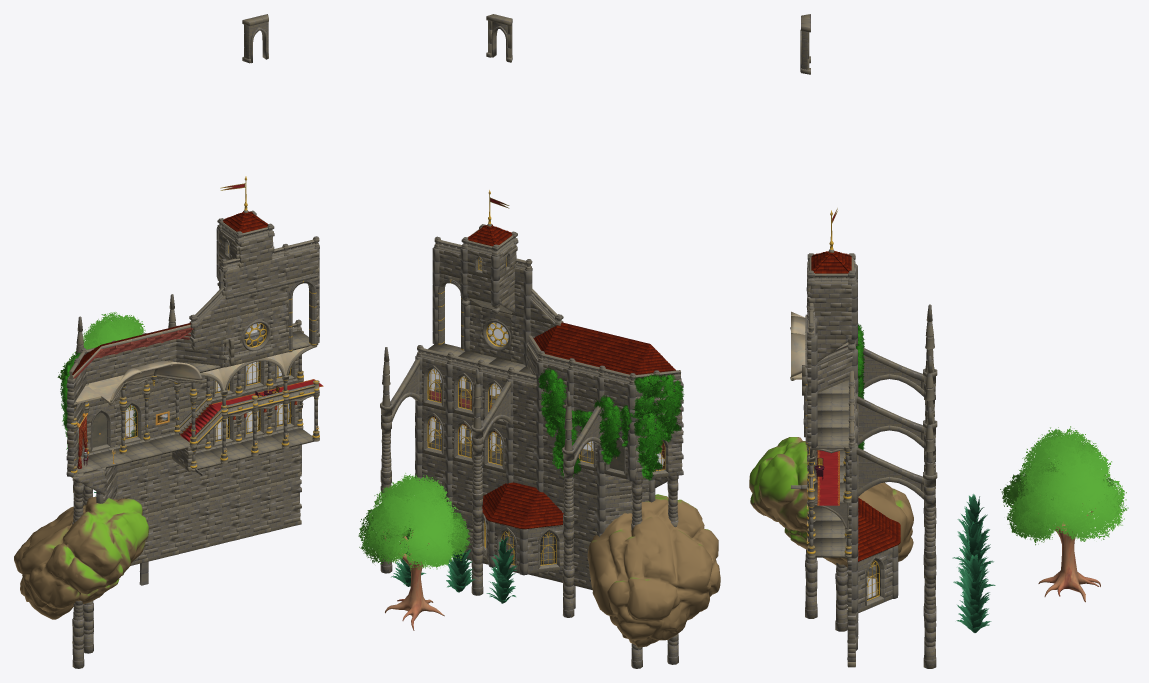
File: cell_x-3_z0_render.gltf
3 views of the same model, side by side, from view 1: azimuth 30°, elevation 25°; view 2: azimuth 150°, elevation 25°; view 3: azimuth 270°, elevation 25° (orthographic). The views are drawn at different scales.
Visible parts, largest first — view 1: SM_ENV_cliff_castle_01_LOD0.015, SM_MOD_wall_big_castle_LOD0.076, SM_ENV_tree_castle_01_LOD0.050, SM_MOD_wall_big_castle_LOD0.027, SM_MOD_wall_big_castle_LOD0.193, SM_MOD_wall_big_castle_LOD0.212, SM_MOD_wall_big_castle_LOD0.043, SM_MOD_wall_big_castle_LOD0.055, SM_MOD_wall_big_castle_LOD0.331, SM_MOD_wall_big_castle_LOD0.145, SM_MOD_wall_big_window_round_castle_LOD0.002, SM_MOD_wall_big_niche_castle_LOD0.003 (+37 smaller); view 2: SM_ENV_cliff_castle_01_LOD0.015, SM_ENV_tree_castle_01_LOD0.050, SM_MOD_deco_flying_buttress_castle_LOD0.024, SM_MOD_deco_flying_buttress_castle_LOD0.004, SM_MOD_deco_flying_buttress_castle_LOD0.008, SM_MOD_wall_big_diagonal_window_castle_LOD0.013, SM_MOD_wall_big_window_round_castle_LOD0.002, SM_ENV_bush_castle_08_LOD0.048, SM_ENV_bush_castle_08_LOD0.076, SM_MOD_wall_big_diagonal_window_castle_LOD0.009, SM_ENV_bush_castle_08_LOD0.046, SM_ENV_bush_castle_08_LOD0.019 (+40 smaller); view 3: SM_ENV_tree_castle_01_LOD0.050, SM_ENV_cliff_castle_01_LOD0.015, SM_MOD_deco_flying_buttress_castle_LOD0.024, SM_MOD_deco_flying_buttress_castle_LOD0.004, SM_MOD_deco_flying_buttress_castle_LOD0.008, SM_MOD_wall_big_diagonal_window_castle_LOD0.016, SM_ENV_tree_castle_02_LOD0.018, SM_MOD_deco_flying_buttress_ext_castle_LOD0.052, SM_MOD_wall_small_castle_LOD0.018, SM_MOD_wall_small_castle_LOD0.268, SM_ENV_tree_castle_02_LOD0.026, SM_MOD_wall_small_diagonal_castle_LOD0.032 (+13 smaller).
Boxes of the visible parts, x1,y1,x2,y2 form: SM_ENV_cliff_castle_01_LOD0.015: (14,496,148,619); SM_MOD_wall_big_castle_LOD0.076: (266,476,301,531); SM_ENV_tree_castle_01_LOD0.050: (57,312,145,437); SM_MOD_wall_big_castle_LOD0.027: (236,484,271,538); SM_MOD_wall_big_castle_LOD0.193: (174,499,209,553); SM_MOD_wall_big_castle_LOD0.212: (222,263,258,318); SM_MOD_wall_big_castle_LOD0.043: (205,491,240,546); SM_MOD_wall_big_castle_LOD0.055: (144,459,179,513); SM_MOD_wall_big_castle_LOD0.331: (144,506,179,561); SM_MOD_wall_big_castle_LOD0.145: (253,256,288,311); SM_MOD_wall_big_window_round_castle_LOD0.002: (238,308,273,363); SM_MOD_wall_big_niche_castle_LOD0.003: (87,401,118,453); SM_ENV_cliff_castle_01_LOD0.015: (587,494,720,647); SM_ENV_tree_castle_01_LOD0.050: (358,473,471,630); SM_MOD_deco_flying_buttress_castle_LOD0.024: (380,347,420,478); SM_MOD_deco_flying_buttress_castle_LOD0.004: (471,369,511,500); SM_MOD_deco_flying_buttress_castle_LOD0.008: (562,391,602,522); SM_MOD_wall_big_diagonal_window_castle_LOD0.013: (527,525,563,573); SM_MOD_wall_big_window_round_castle_LOD0.002: (480,307,514,360); SM_ENV_bush_castle_08_LOD0.048: (634,412,665,480); SM_ENV_bush_castle_08_LOD0.076: (652,374,684,442); SM_MOD_wall_big_diagonal_window_castle_LOD0.009: (635,427,683,480); SM_ENV_bush_castle_08_LOD0.046: (538,368,566,437); SM_ENV_bush_castle_08_LOD0.019: (594,395,621,464); SM_ENV_tree_castle_01_LOD0.050: (1000,426,1128,602); SM_ENV_cliff_castle_01_LOD0.015: (749,437,913,578); SM_MOD_deco_flying_buttress_castle_LOD0.024: (856,407,937,558); SM_MOD_deco_flying_buttress_castle_LOD0.004: (856,356,937,506); SM_MOD_deco_flying_buttress_castle_LOD0.008: (862,304,937,454); SM_MOD_wall_big_diagonal_window_castle_LOD0.016: (846,548,892,612); SM_ENV_tree_castle_02_LOD0.018: (956,554,991,632); SM_MOD_deco_flying_buttress_ext_castle_LOD0.052: (923,557,936,668); SM_MOD_wall_small_castle_LOD0.018: (808,283,851,311); SM_MOD_wall_small_castle_LOD0.268: (814,311,851,339); SM_ENV_tree_castle_02_LOD0.026: (953,521,995,593); SM_MOD_wall_small_diagonal_castle_LOD0.032: (817,352,852,392).
Size of the model in its own units: 38.48 by 75.6 by 38.08.
20 materials, 19 textured.
